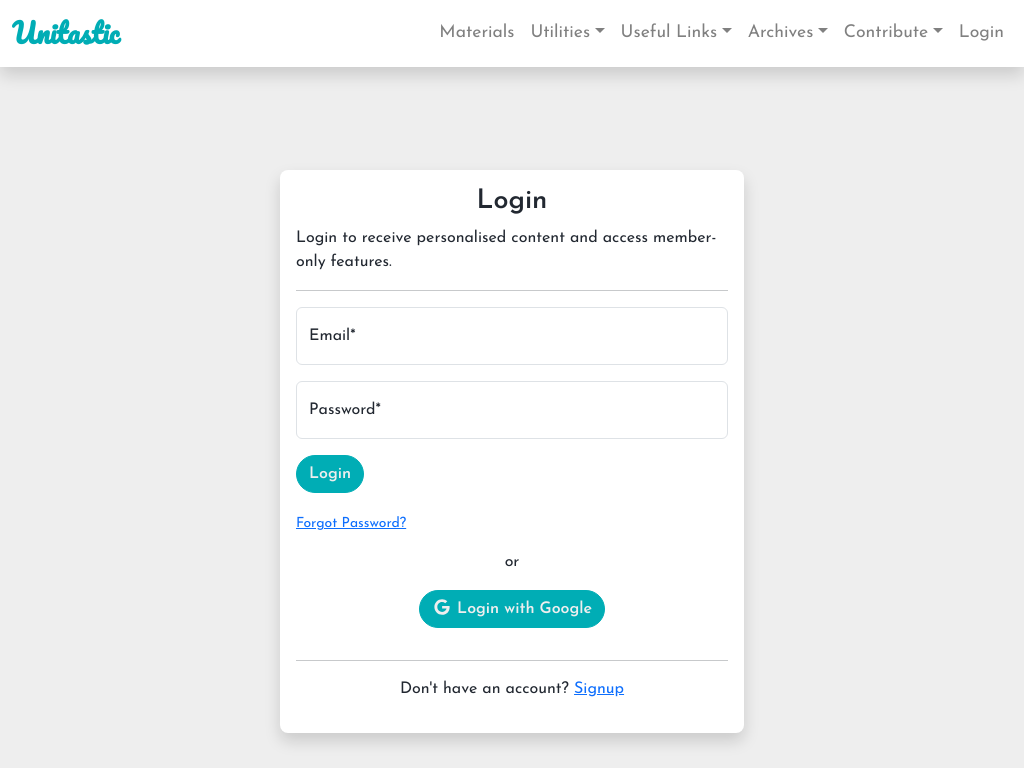
Test case: LoginForm Component › handles successful login
Type "john@example.com" into the field labelled "Email*" at (512, 336), box [296,307,728,365]
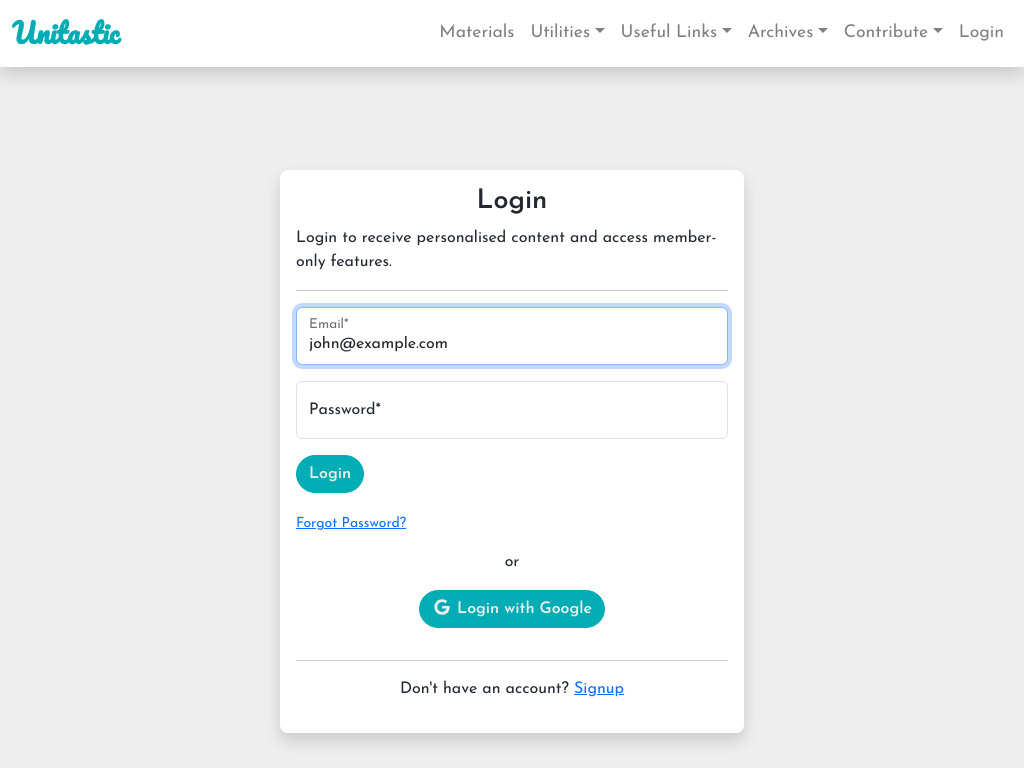
Type "password123" into the password field labelled "Password*" at (512, 410), box [296,381,728,439]
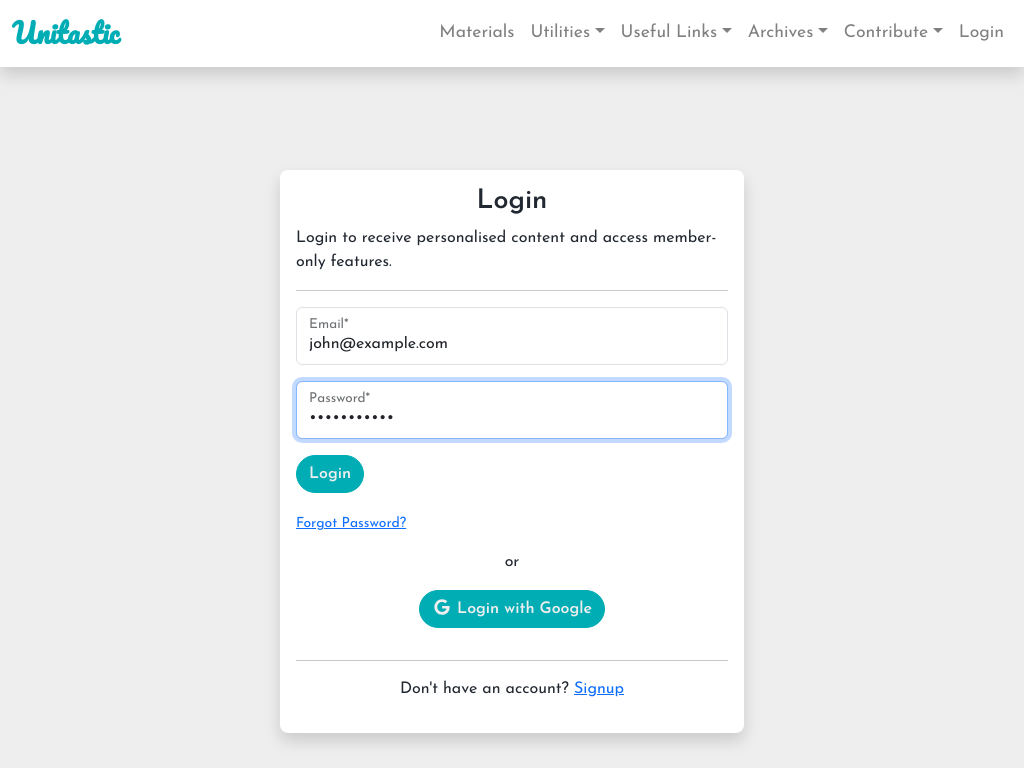
Click the button "Login" at (330, 474), box [296,455,364,493]
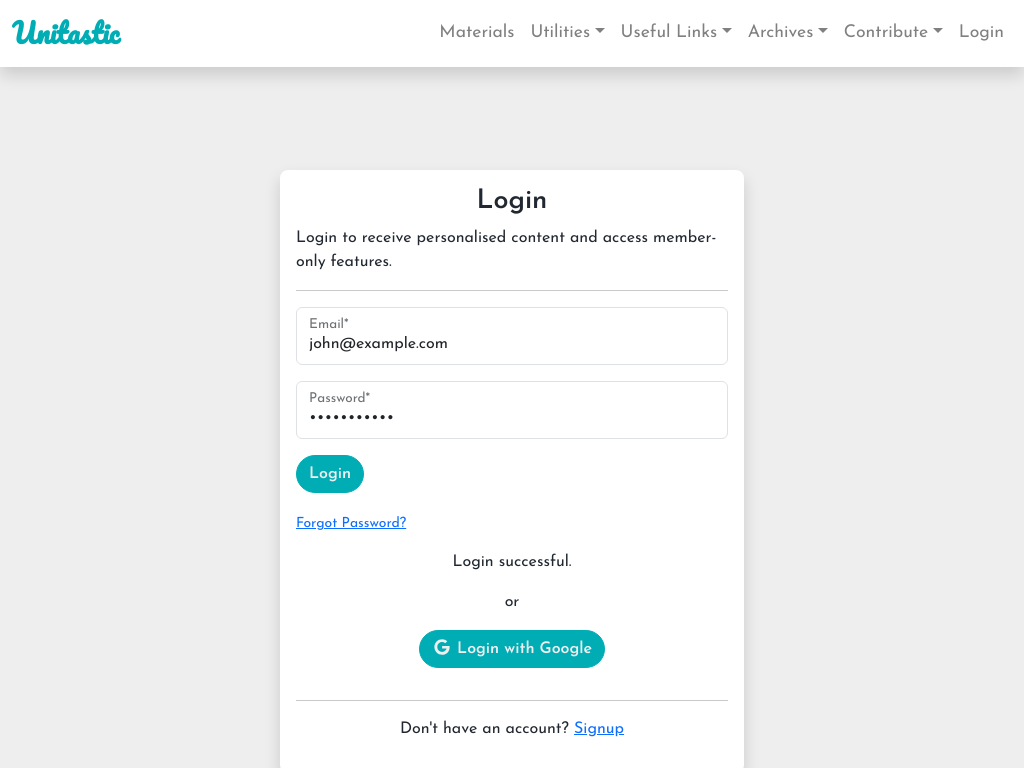
Check: the text "Login successful." is shown, box [452,554,572,570]
